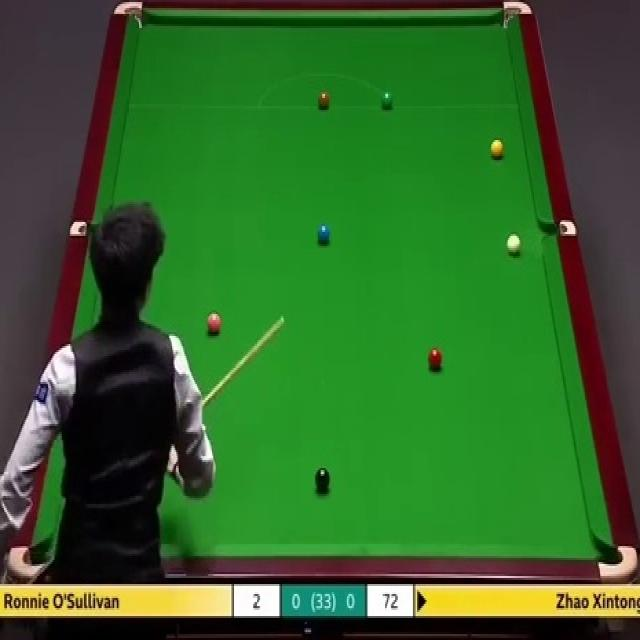pocket: (597, 540, 637, 580), (7, 542, 44, 582), (499, 0, 532, 32), (114, 1, 143, 28), (540, 218, 576, 237), (67, 222, 96, 238)
